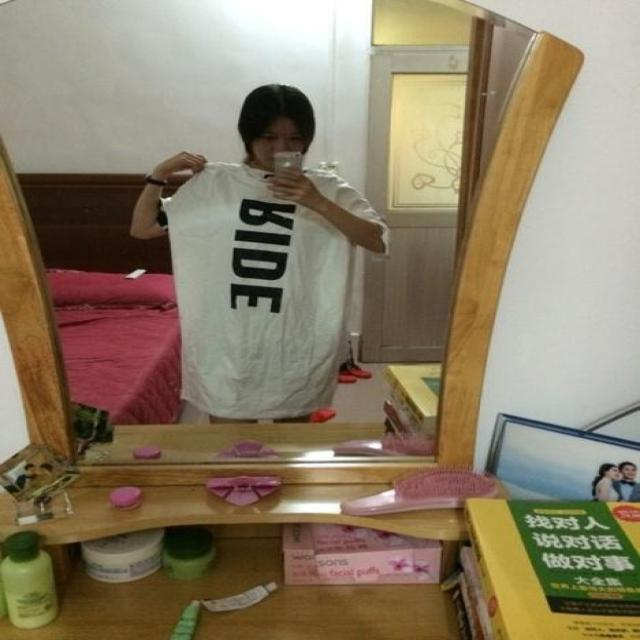short-sleeve-dress: (163, 166, 408, 430)
